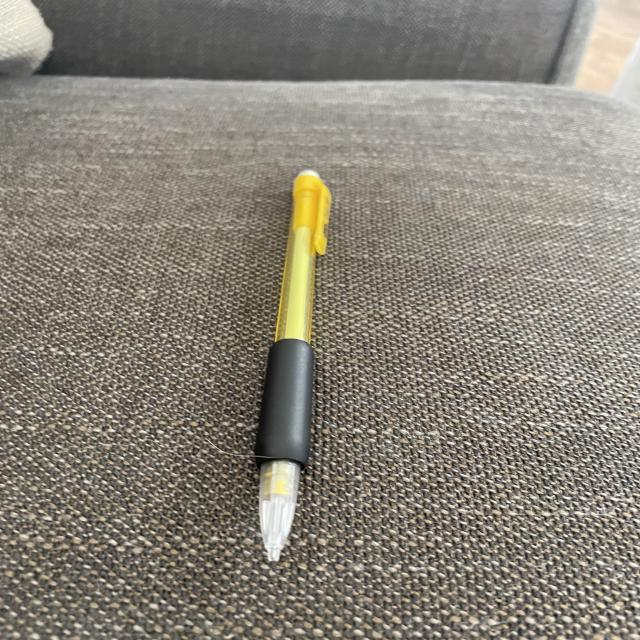mechanical-pencils: (249, 167, 340, 566)
